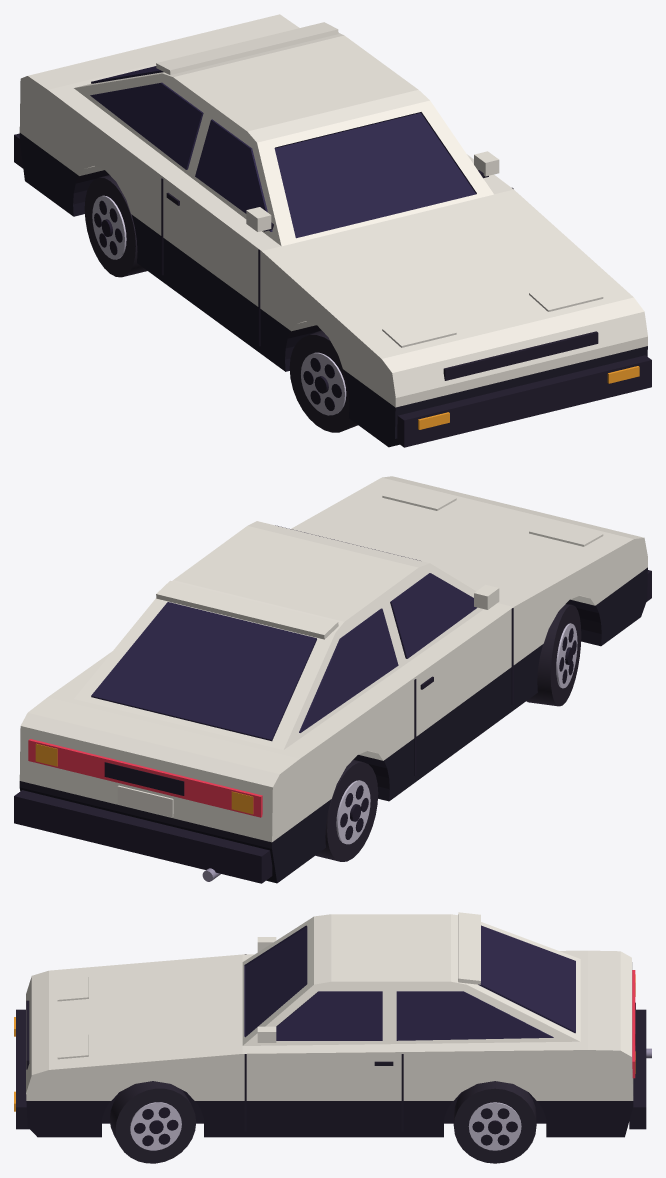
File: roku_ae_panda.glb
The picture shows the model from 3 angles, top to bottom: view 1: azimuth 30°, elevation 25°; view 2: azimuth 150°, elevation 25°; view 3: azimuth 270°, elevation 25°; orthographic projection. The views are drawn at different scales.
Visible parts, largest first — view 1: body_upper, cabin, glass_windshield, bumper_front, body_lower_mid, glass_quarter, body_lower_front, glass_door, body_lower_rear, hatch_spoiler, wheel_RL_tire, wheel_FL_tire (+5 smaller); view 2: body_upper, cabin, glass_hatch, bumper_rear, body_lower_mid, glass_quarter, body_lower_rear, glass_door, hatch_spoiler, taillamp_band, body_lower_front, wheel_RL_tire (+7 smaller); view 3: body_upper, cabin, body_lower_mid, glass_hatch, glass_quarter, glass_door, glass_windshield, wheel_FR_tire, wheel_RR_tire, body_lower_rear, body_lower_front, hatch_spoiler (+9 smaller).
Part boxes in pixels (x1=…): body_upper: x1=19, y1=14, x2=647, y2=407; cabin: x1=74, y1=33, x2=493, y2=246; glass_windshield: x1=274, y1=112, x2=476, y2=238; bumper_front: x1=395, y1=355, x2=651, y2=447; body_lower_mid: x1=132, y1=215, x2=321, y2=371; glass_quarter: x1=90, y1=82, x2=203, y2=169; body_lower_front: x1=343, y1=346, x2=647, y2=447; glass_door: x1=195, y1=119, x2=272, y2=231; body_lower_rear: x1=19, y1=133, x2=109, y2=216; hatch_spoiler: x1=156, y1=22, x2=338, y2=74; wheel_RL_tire: x1=84, y1=175, x2=147, y2=277; wheel_FL_tire: x1=289, y1=330, x2=357, y2=432; body_upper: x1=19, y1=476, x2=647, y2=842; cabin: x1=74, y1=521, x2=483, y2=749; glass_hatch: x1=91, y1=602, x2=316, y2=741; bumper_rear: x1=14, y1=790, x2=272, y2=883; body_lower_mid: x1=353, y1=644, x2=542, y2=801; glass_quarter: x1=299, y1=608, x2=398, y2=732; body_lower_rear: x1=19, y1=781, x2=330, y2=883; glass_door: x1=390, y1=573, x2=476, y2=658; hatch_spoiler: x1=156, y1=580, x2=338, y2=639; taillamp_band: x1=28, y1=739, x2=262, y2=817; body_lower_front: x1=566, y1=567, x2=647, y2=646; wheel_RL_tire: x1=315, y1=759, x2=378, y2=861; body_upper: x1=26, y1=950, x2=633, y2=1100; cabin: x1=242, y1=914, x2=580, y2=1045; body_lower_mid: x1=196, y1=1101, x2=452, y2=1137; glass_hatch: x1=478, y1=925, x2=575, y2=1033; glass_quarter: x1=396, y1=991, x2=553, y2=1040; glass_door: x1=276, y1=991, x2=382, y2=1040; glass_windshield: x1=244, y1=925, x2=307, y2=1037; wheel_FR_tire: x1=110, y1=1081, x2=196, y2=1163; wheel_RR_tire: x1=453, y1=1081, x2=536, y2=1163; body_lower_rear: x1=538, y1=1101, x2=633, y2=1137; body_lower_front: x1=26, y1=1101, x2=109, y2=1137; hatch_spoiler: x1=458, y1=912, x2=480, y2=984.
Size of the model in its own units: 1.71 by 1.32 by 4.47.
